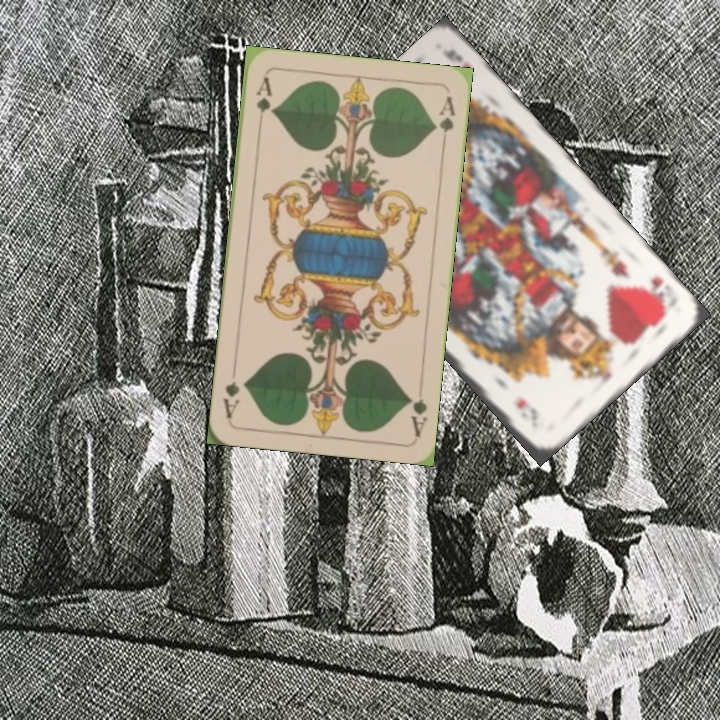GA: (252, 73, 275, 131), (404, 390, 430, 438)
HK: (637, 272, 671, 316)
